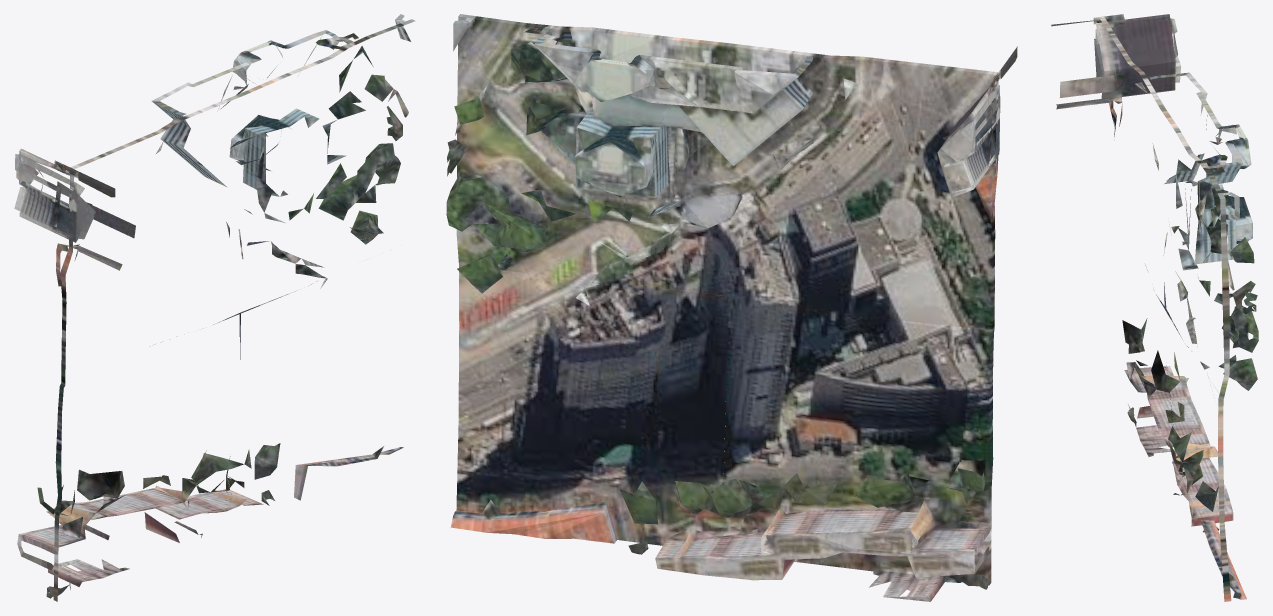
Rendered from tile_005.glb.
3 renders of one model, left to right at view 1: azimuth 30°, elevation 25°; view 2: azimuth 150°, elevation 25°; view 3: azimuth 270°, elevation 25°, orthographic. The views are drawn at different scales.
Size of the model in its own units: 308 by 305 by 145.
Materials: 2 (2 with a texture image).
